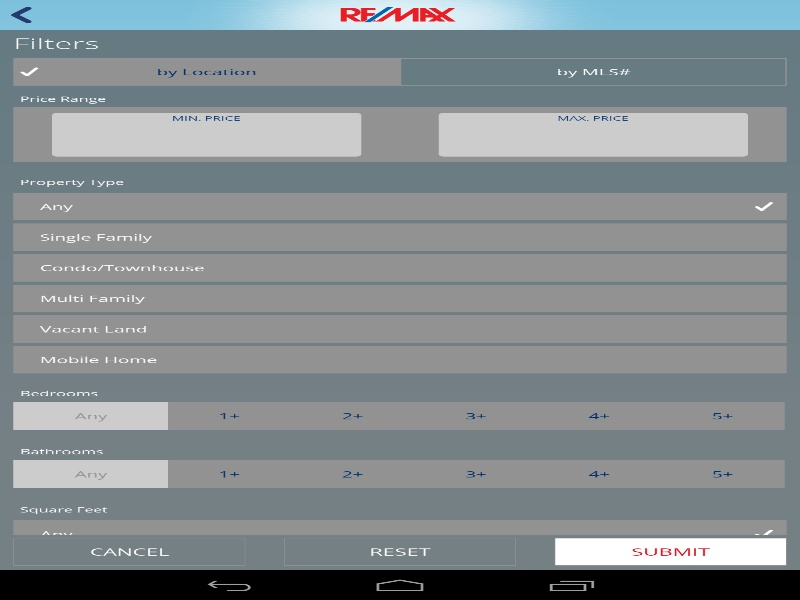Button: (13, 538, 245, 565), (284, 538, 516, 565), (554, 538, 786, 565)
Input: (54, 120, 358, 148), (441, 120, 745, 148)
